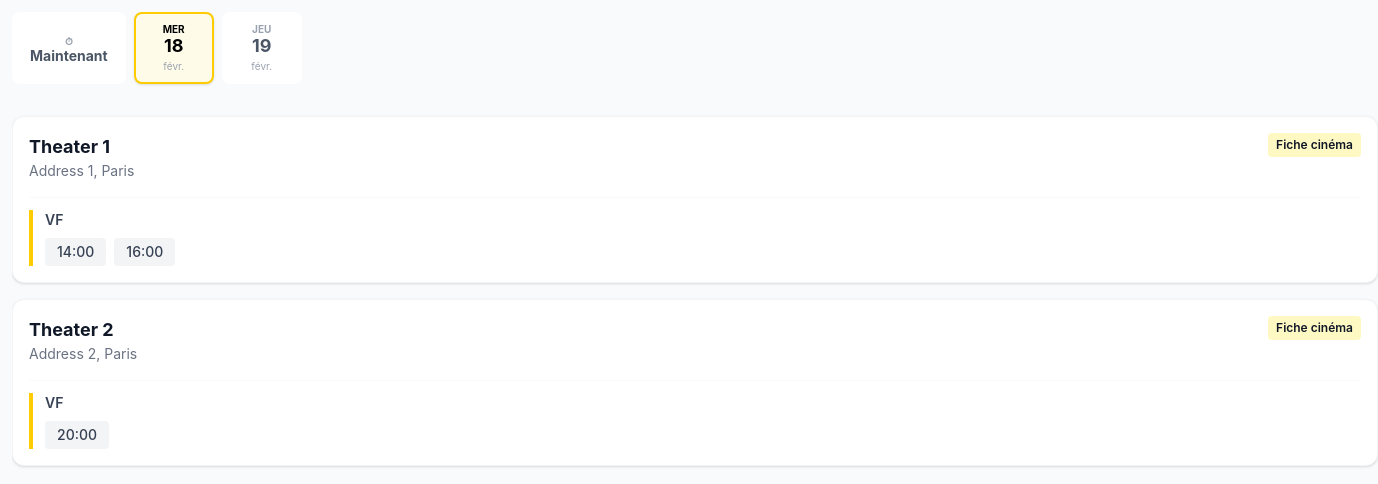
Scenario: TheaterShowtimes — bouton Maintenant › filters out showtimes before current time when Maintenant is clicked
The image size is (1378, 484).
Check: the button "14:00" is shown, box [45, 238, 106, 266]
Check: the button "16:00" is shown, box [114, 238, 175, 266]
Click the button "⏱ Maintenant" at (69, 48), box [12, 12, 126, 84]
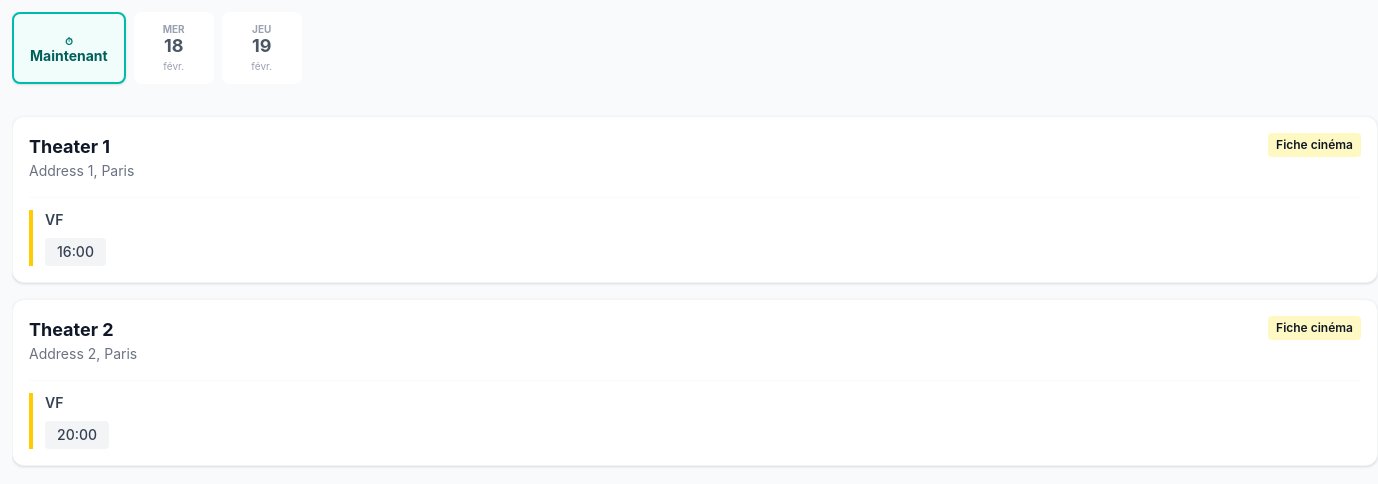
Check: the button "16:00" is shown, box [45, 238, 106, 266]
Check: the button "14:00" is gone
